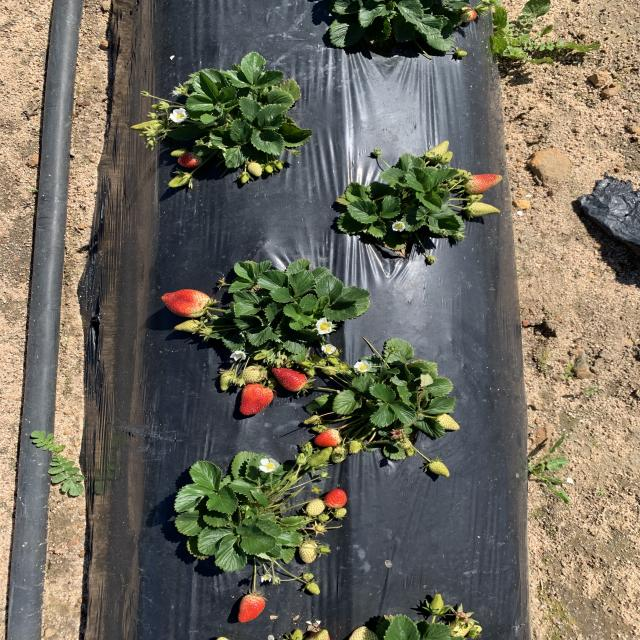unripe: (160, 288, 214, 315), (238, 383, 274, 419), (270, 366, 312, 393), (233, 593, 268, 623), (315, 428, 346, 447), (177, 150, 204, 169), (324, 488, 349, 508)
